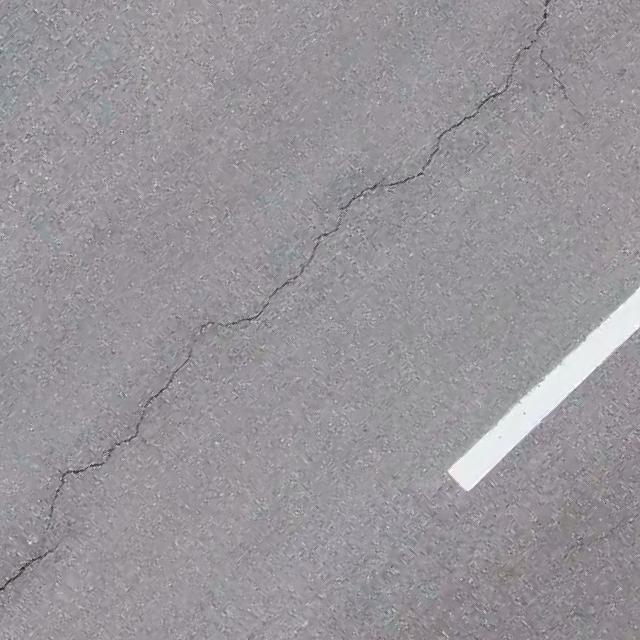GRIETA: (47, 0, 550, 524), (539, 47, 585, 119), (0, 547, 54, 594)
